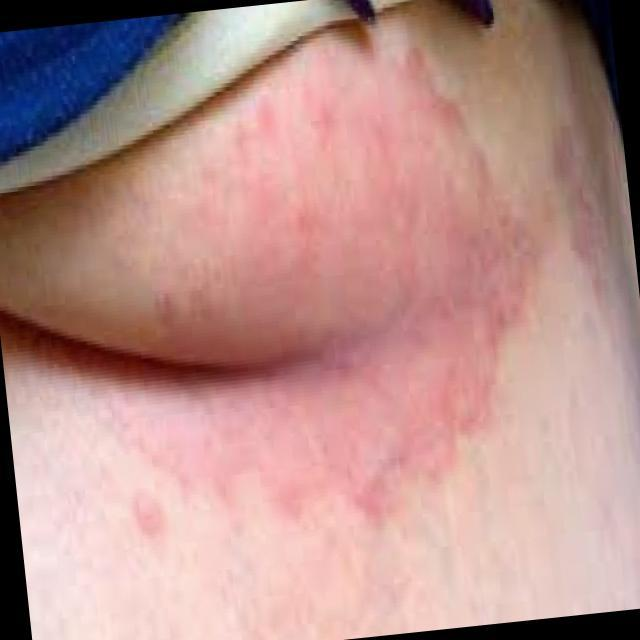Eczema: (153, 52, 536, 507)
